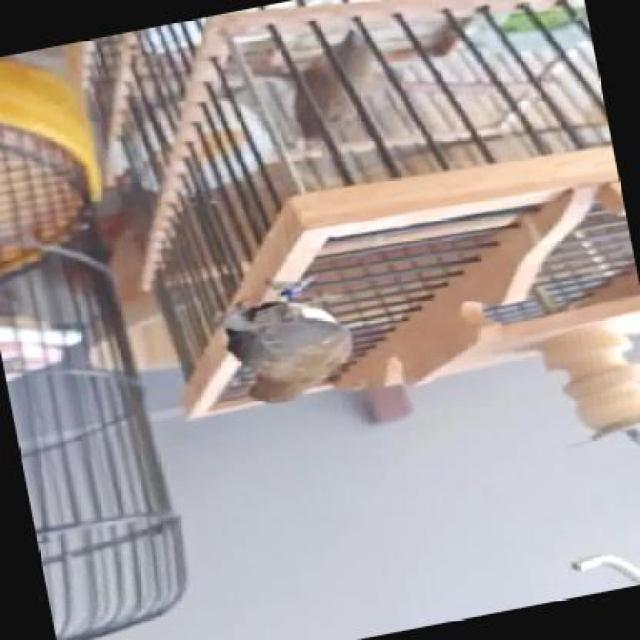Bird: (208, 265, 374, 440)
